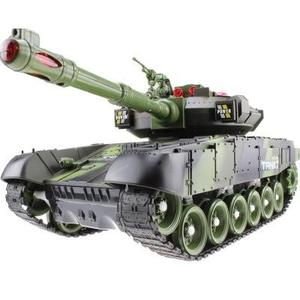Battle Tank: (2, 26, 300, 260)
